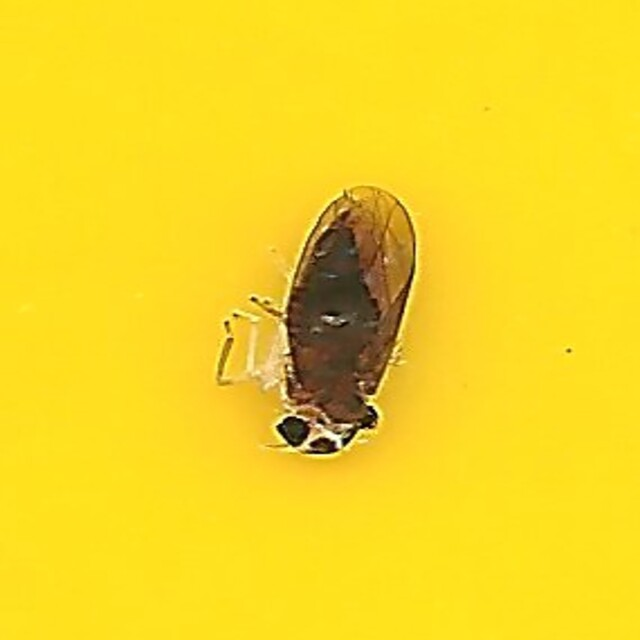Hemiptera: (225, 179, 415, 461)
